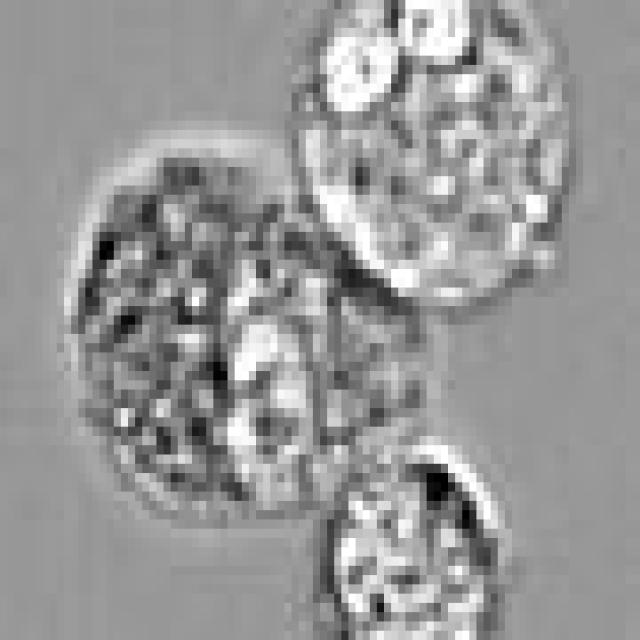Cancer Cell: (71, 139, 434, 529)
WBC: (299, 9, 576, 306), (320, 445, 505, 640)
